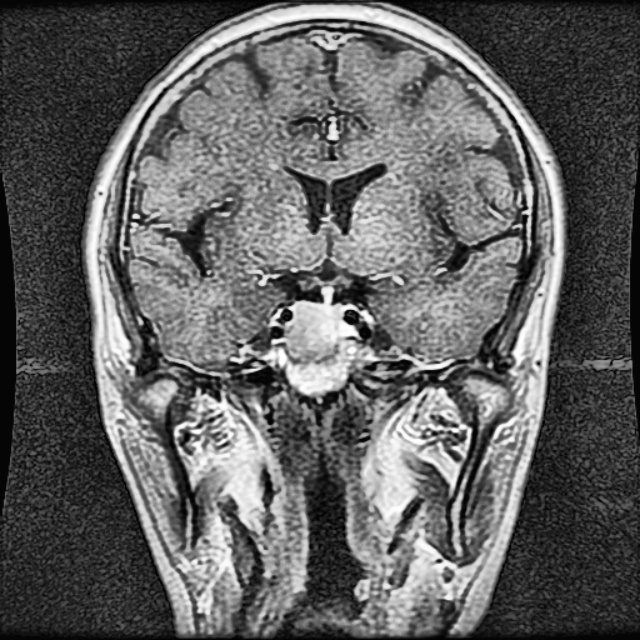Pituitary: (283, 300, 340, 364)
